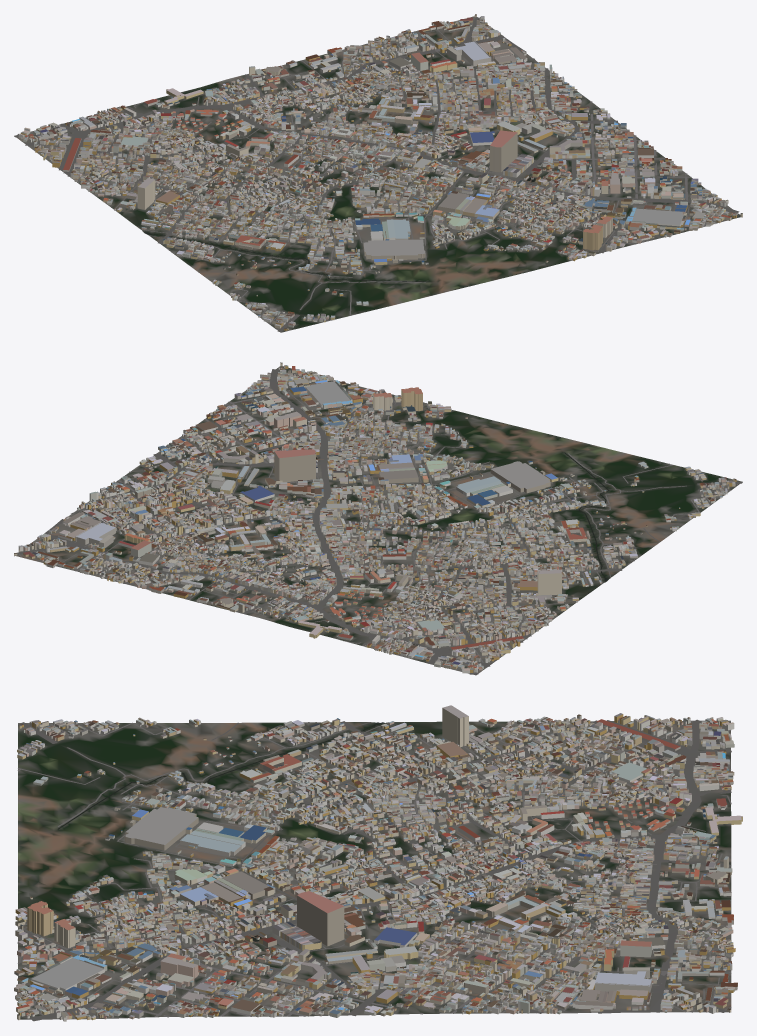
The picture shows the model from 3 angles, top to bottom: view 1: azimuth 30°, elevation 25°; view 2: azimuth 150°, elevation 25°; view 3: azimuth 270°, elevation 25°; orthographic projection. The views are drawn at different scales.
Parts seen in each view (by area): view 1: buildings, ground, roads; view 2: buildings, ground, roads; view 3: buildings, ground, roads.
Boxes of the visible parts, left/top/right/bottom form: buildings: left=18, top=14, right=742, bottom=330; ground: left=14, top=16, right=742, bottom=332; roads: left=15, top=17, right=739, bottom=331; buildings: left=14, top=362, right=736, bottom=673; ground: left=14, top=366, right=742, bottom=675; roads: left=17, top=369, right=741, bottom=674; buildings: left=14, top=705, right=742, bottom=1021; ground: left=18, top=720, right=731, bottom=1019; roads: left=17, top=719, right=731, bottom=1021.
Bounding box in the file's own units: 1419 × 88.99 × 1432.
